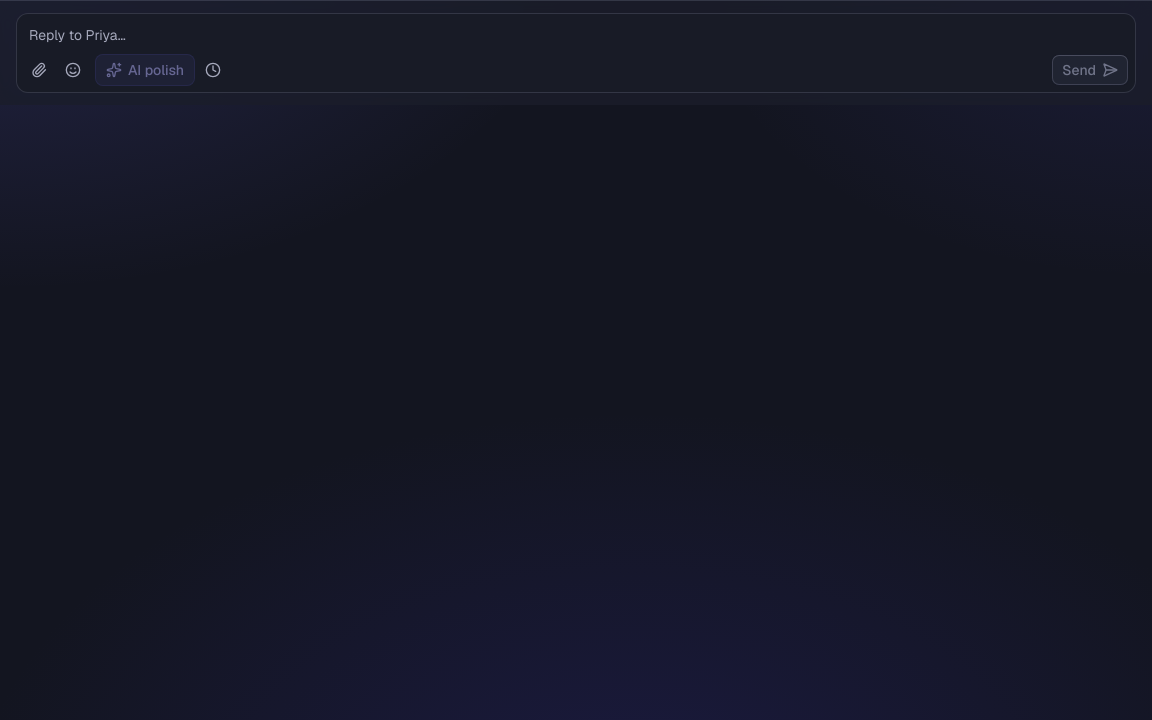
Test: AI polish (C-063) › Undo goes once the member edits the polished reply
Type "yes we deliver sunday" into the text box named "Reply to Priya Nair" at (576, 34), box [17,14,1135,54]
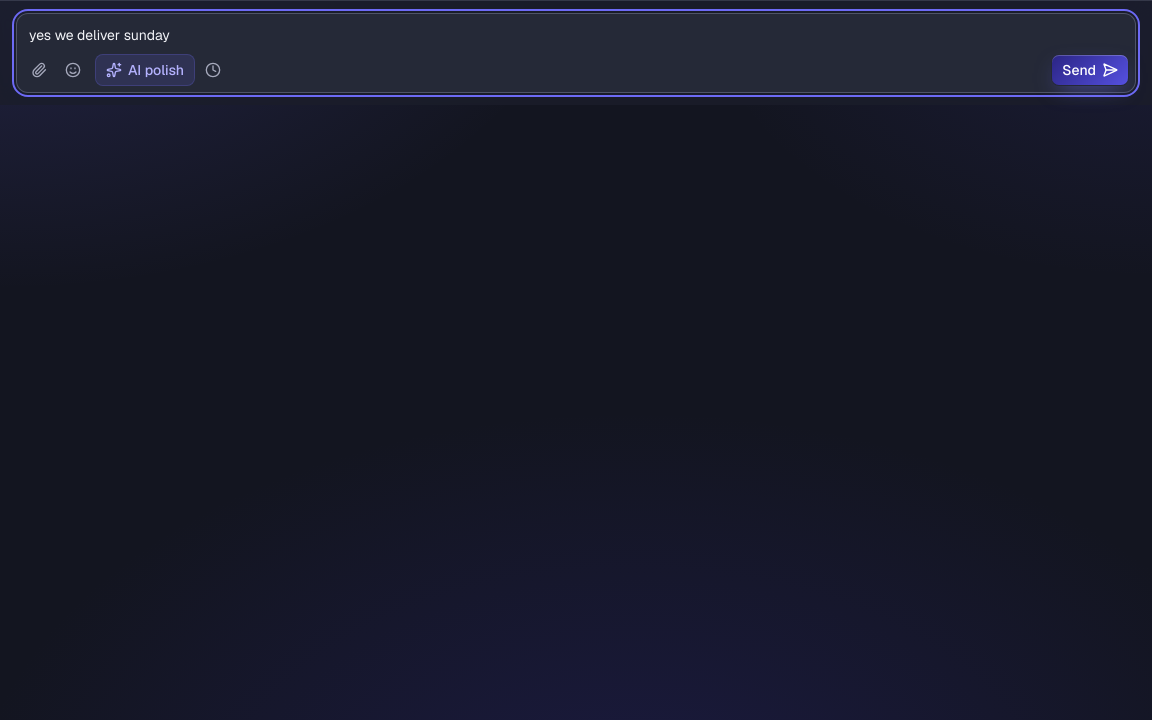
Click the button "AI polish" at (145, 70), box [95,54,195,86]
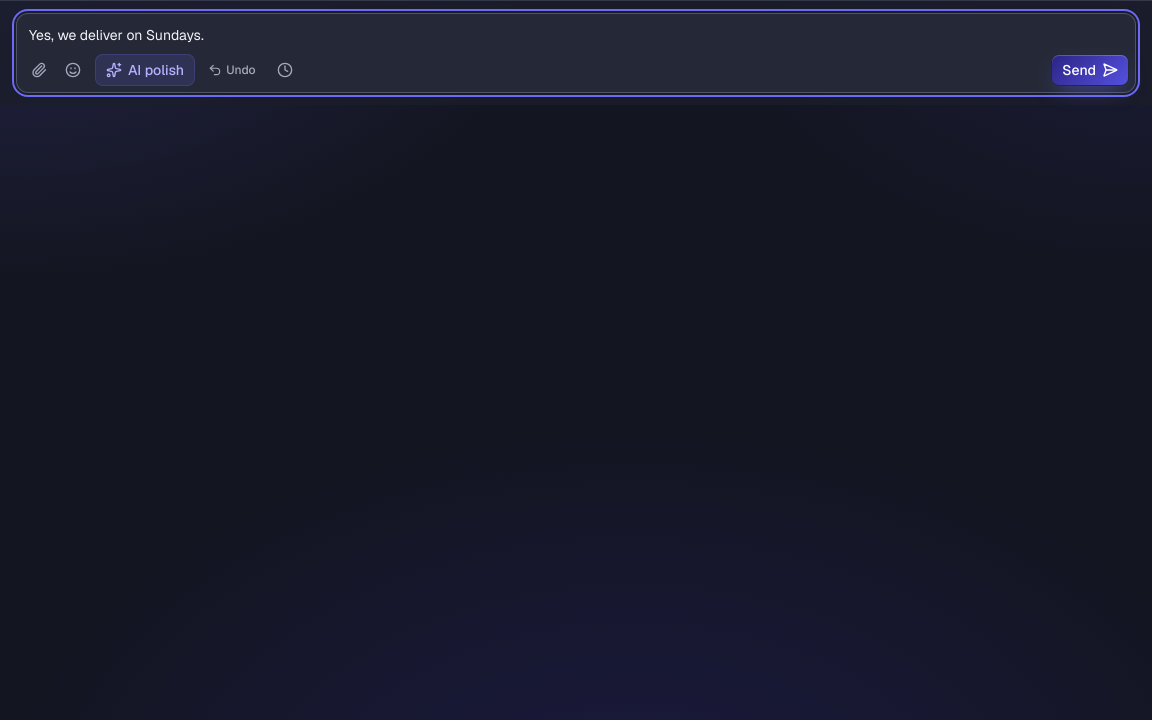
Expected: the text box named "Reply to Priya Nair" holds "Yes, we deliver on Sundays."
Expected: the button "Undo" is shown, [197,56,267,84]
Type " See you!" into the text box named "Reply to Priya Nair" at (576, 34), box [17,14,1135,54]
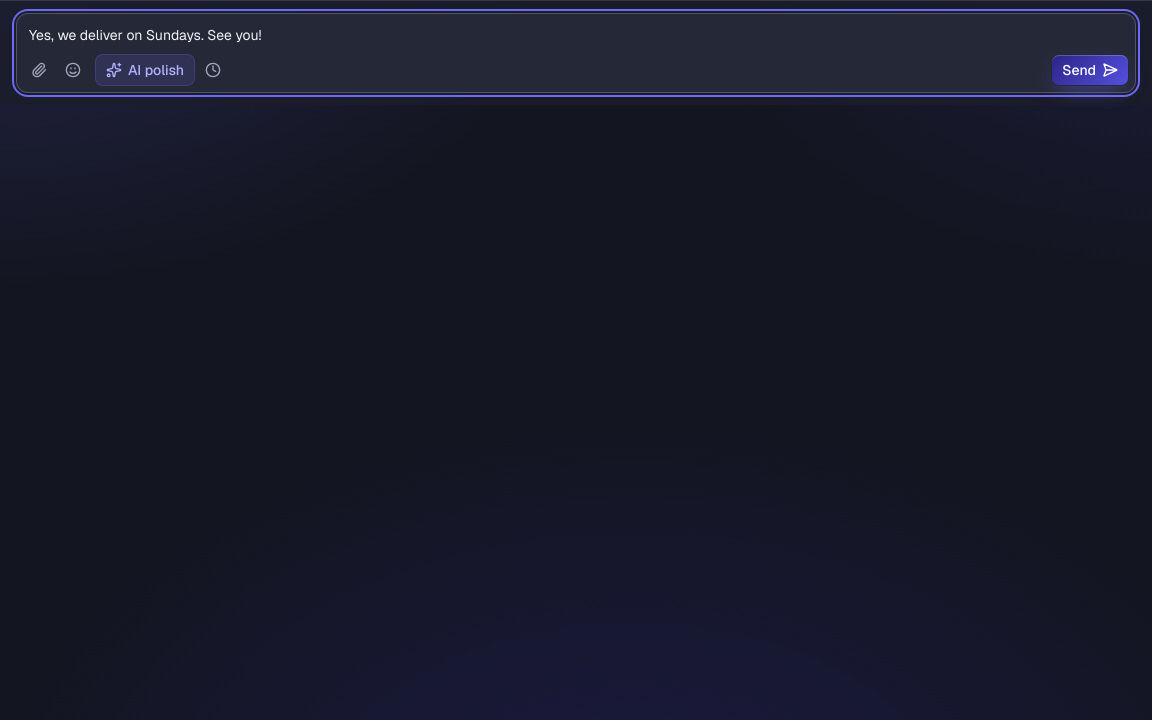
Expected: the button "Undo" is gone
